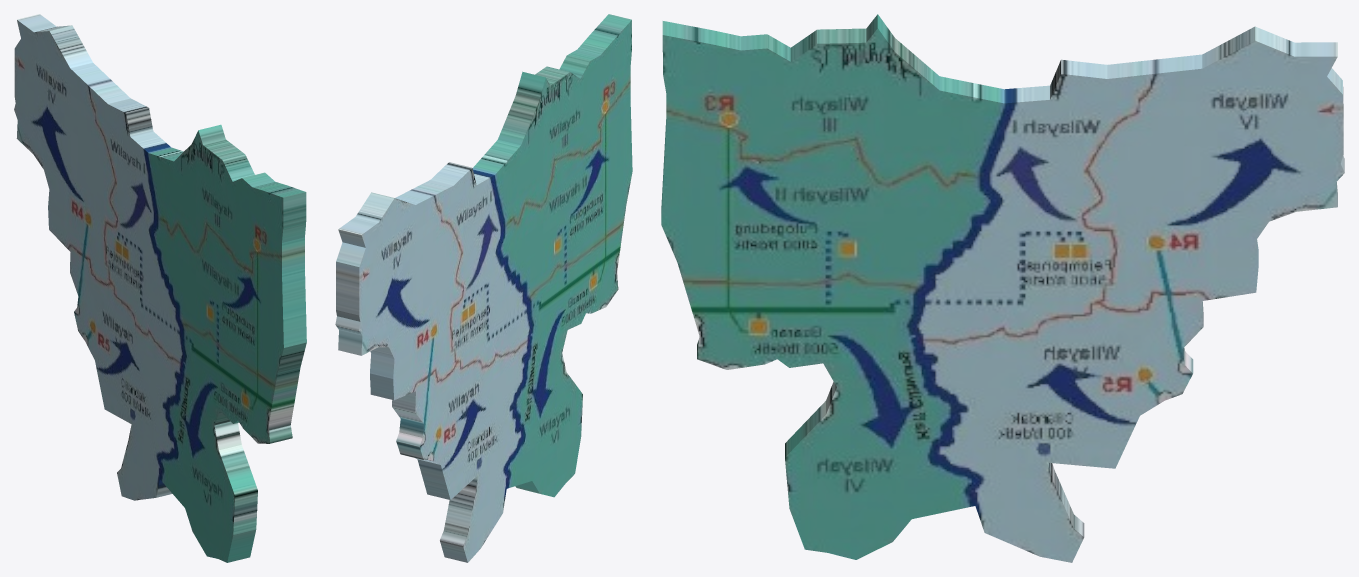
3 renders of one model, left to right at view 1: azimuth 30°, elevation 25°; view 2: azimuth 150°, elevation 25°; view 3: azimuth 270°, elevation 25°, orthographic. The views are drawn at different scales.
Parts seen in each view (by area): view 1: Plane.002; view 2: Plane.002; view 3: Plane.002.
Part boxes in pixels (left/top/right/bottom): Plane.002: left=14, top=14, right=306, bottom=562; Plane.002: left=335, top=14, right=632, bottom=562; Plane.002: left=661, top=14, right=1344, bottom=562.
Bounding box in the file's own units: 0.0328 × 0.576 × 0.6672.
Materials: 1 (1 with a texture image).
